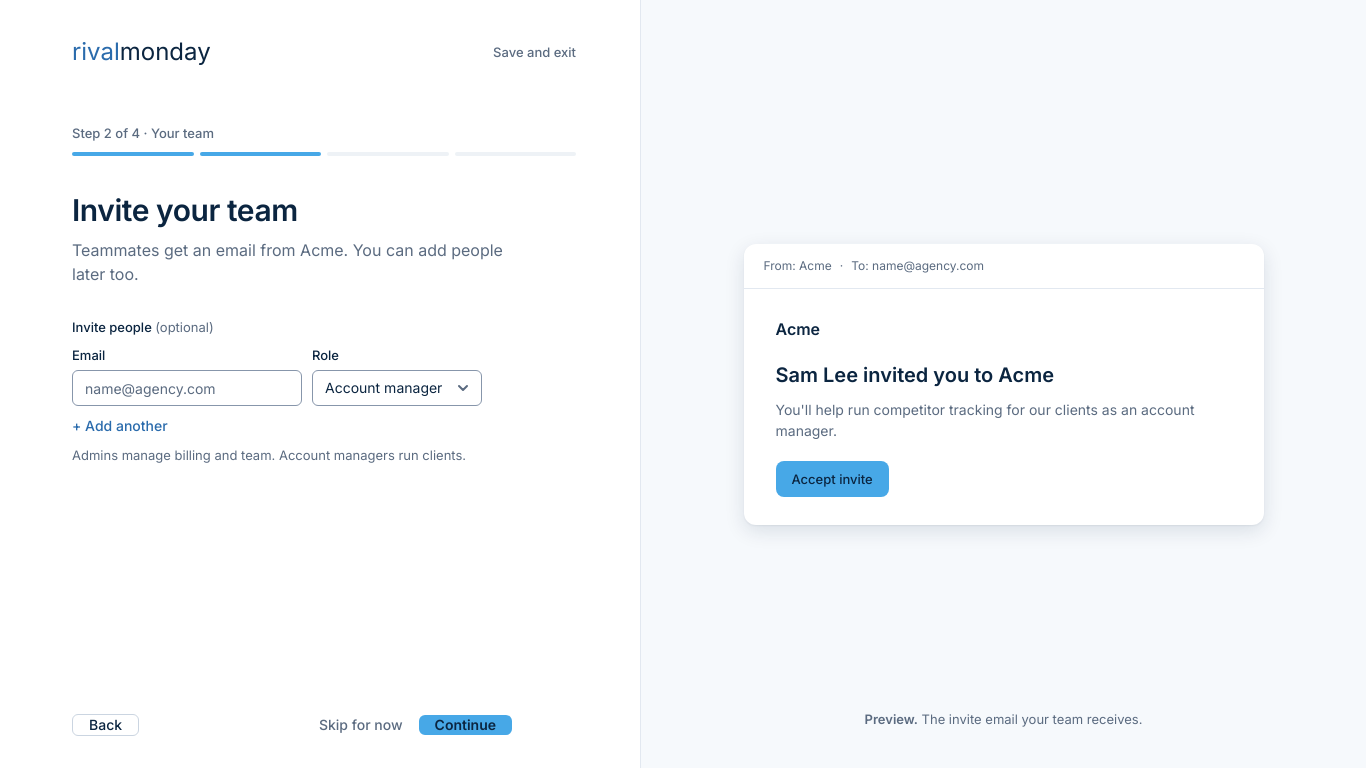
Test: TeamStep › team primary label counts invites
Expected: the button "Continue" is shown, [419,715,512,735]
Type "x@a.co" into the field labelled "Email" at (187, 388), box [72,370,302,406]
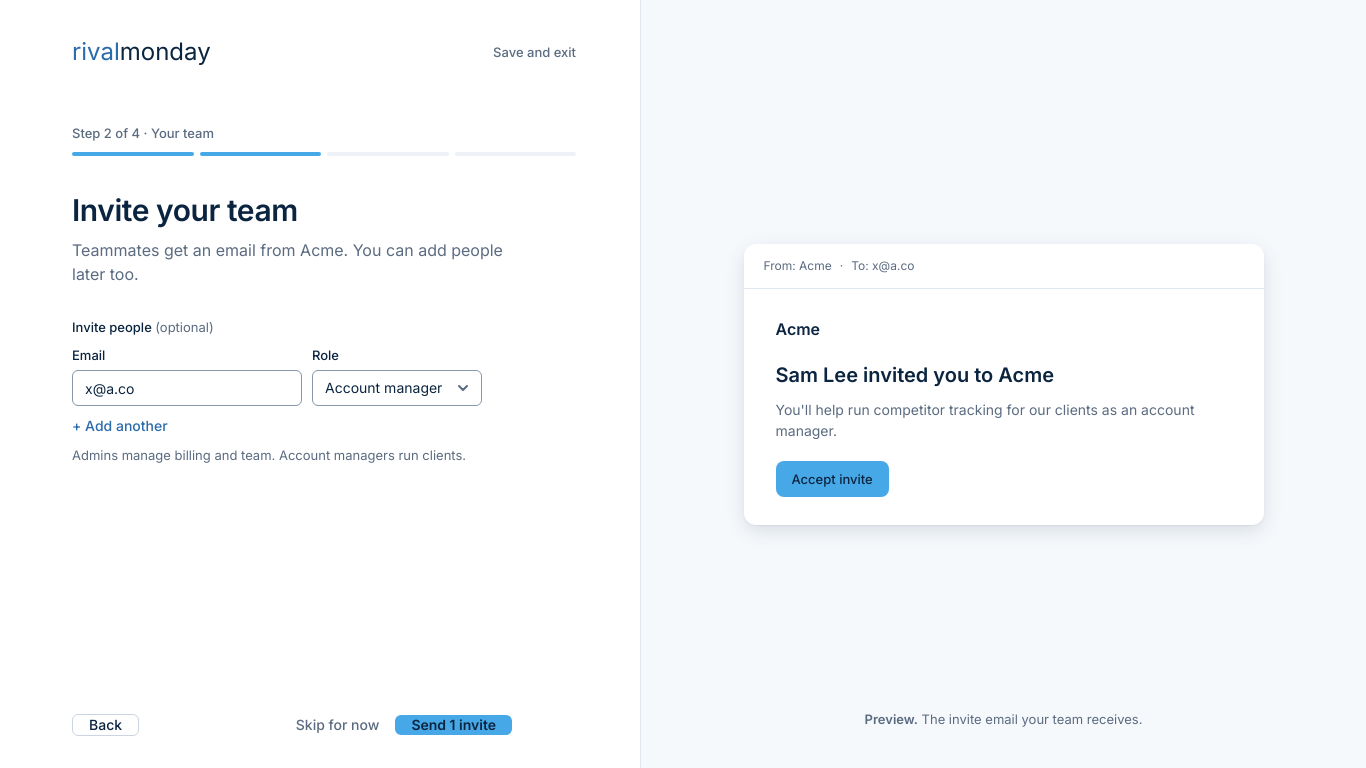
Now the button "Send 1 invite" is shown, box [395,715,512,735]
Click the button "+ Add another" at (120, 426), box [72,416,168,436]
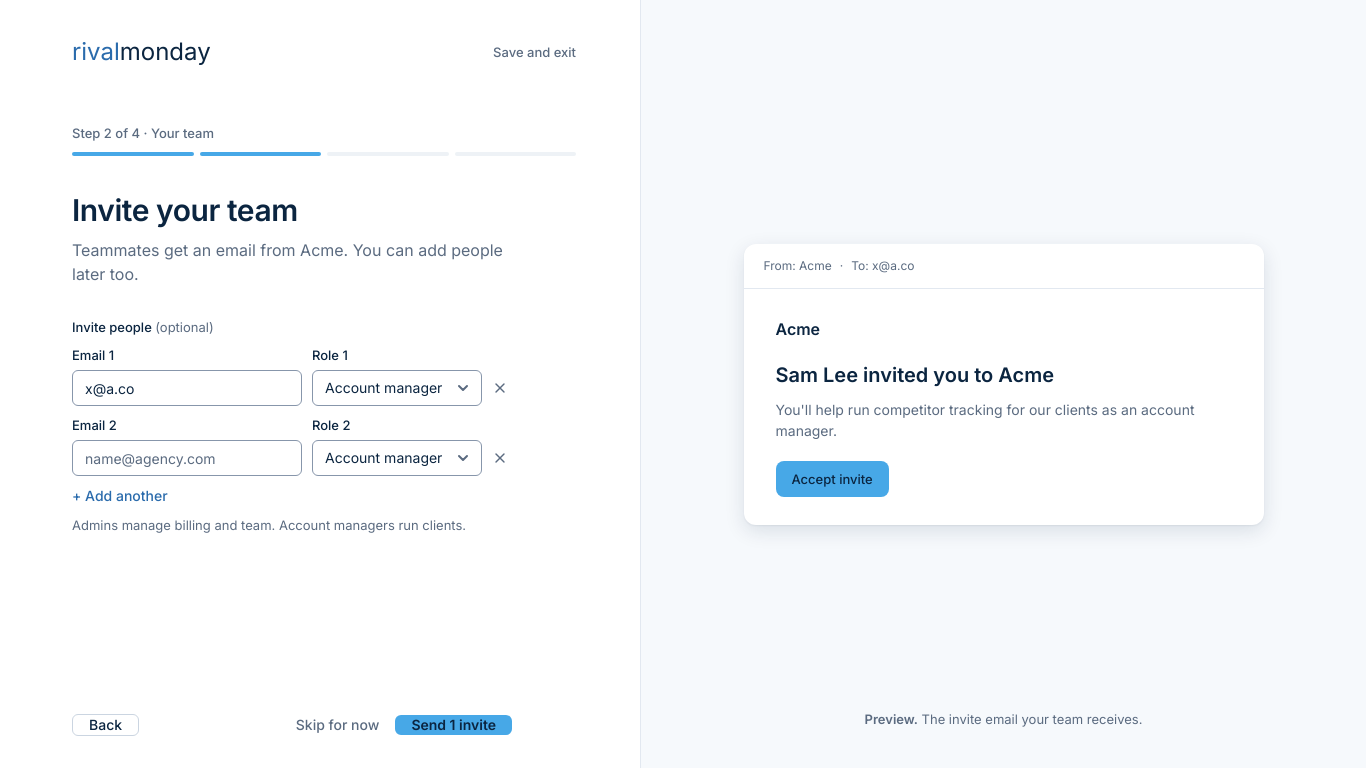
Type "y@a.co" into the field labelled "Email 2" at (187, 458), box [72,440,302,476]
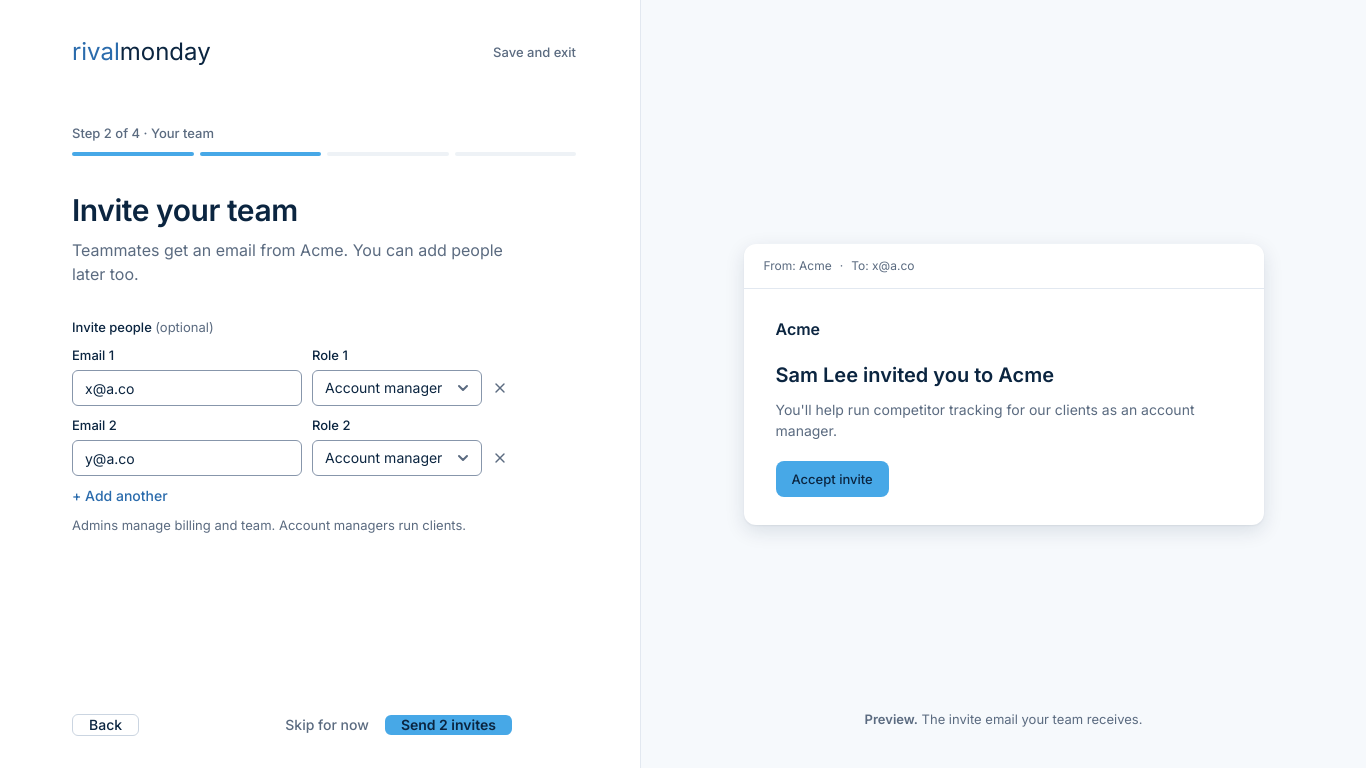
Now the button "Send 2 invites" is shown, box [385,715,512,735]
